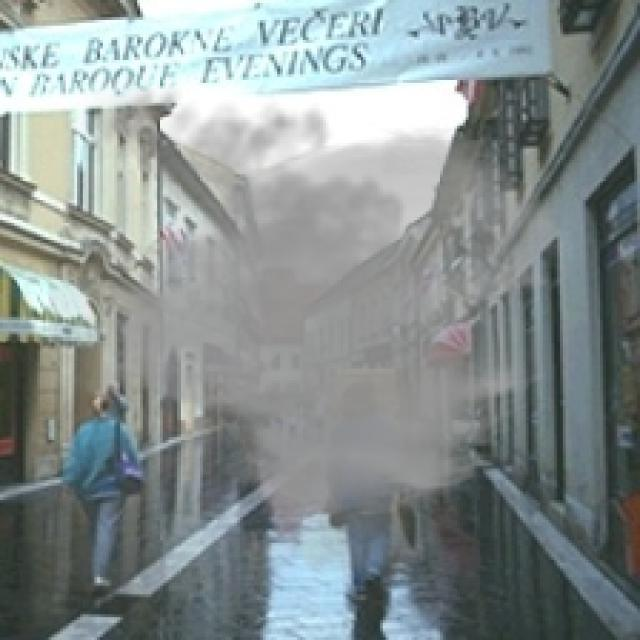Smoke: (49, 71, 568, 592)
